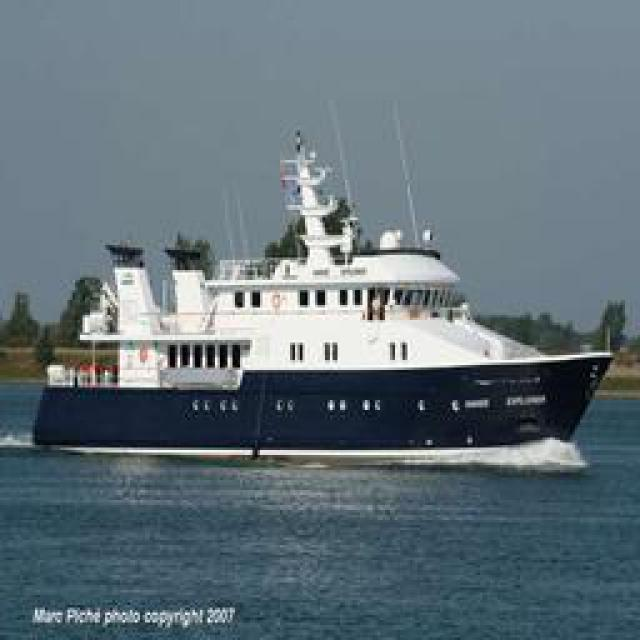Ship: (25, 99, 620, 452)
